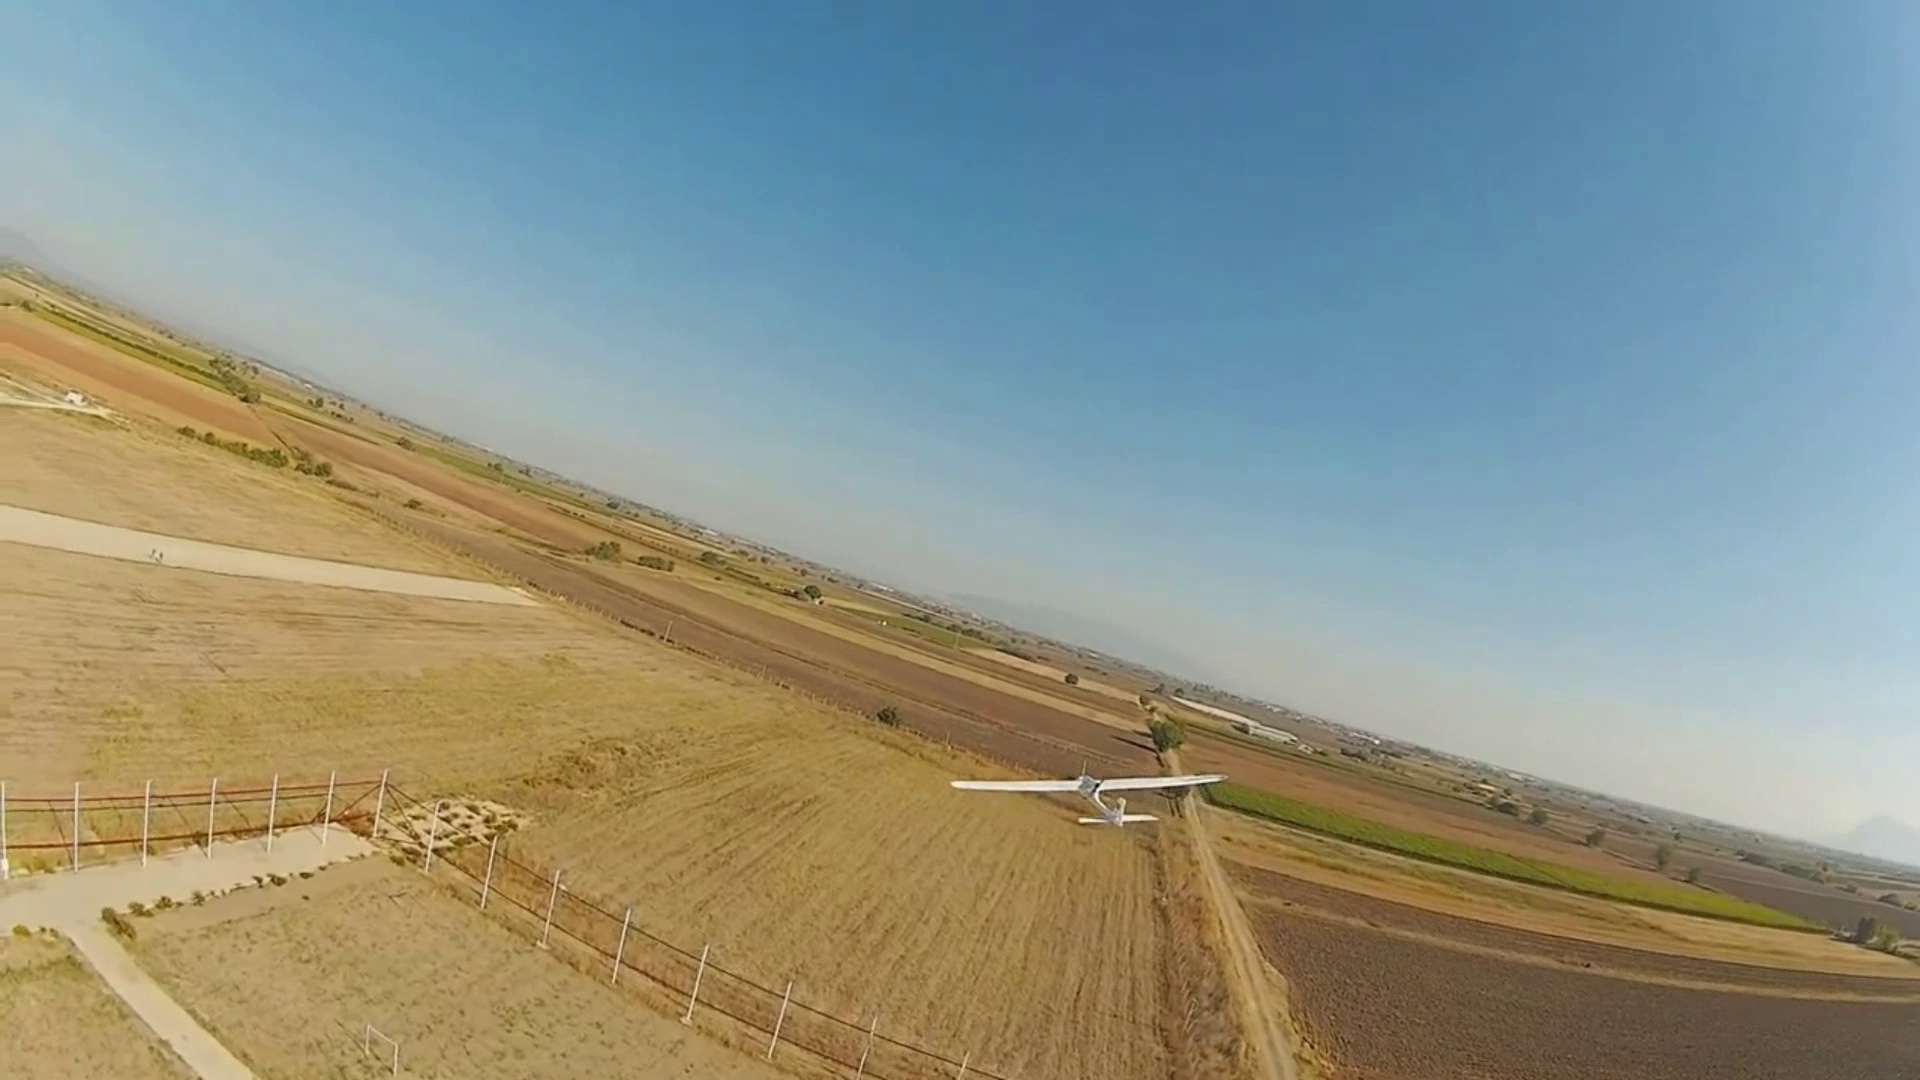airplane: (951, 767, 1228, 827)
